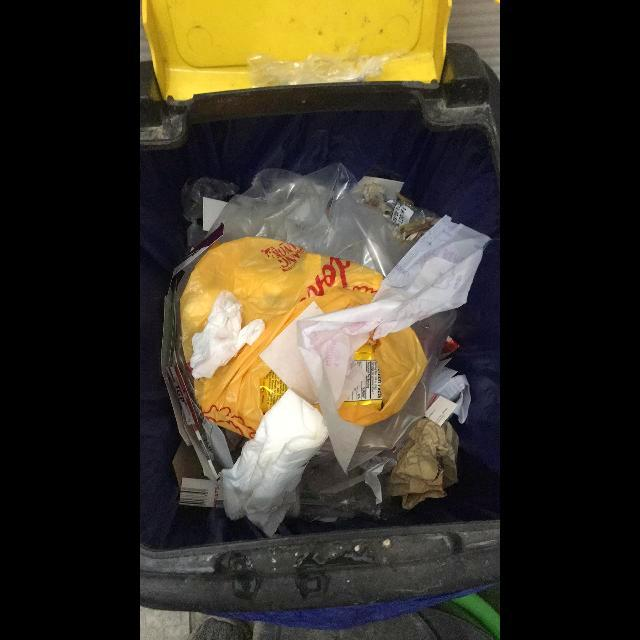cardboard: (161, 223, 234, 482), (172, 440, 224, 515), (425, 394, 458, 427)
paper: (296, 215, 491, 475), (218, 389, 329, 539), (383, 418, 459, 510), (190, 290, 265, 382), (427, 357, 471, 424)
plastic_bag: (180, 216, 491, 473), (181, 163, 440, 277)
